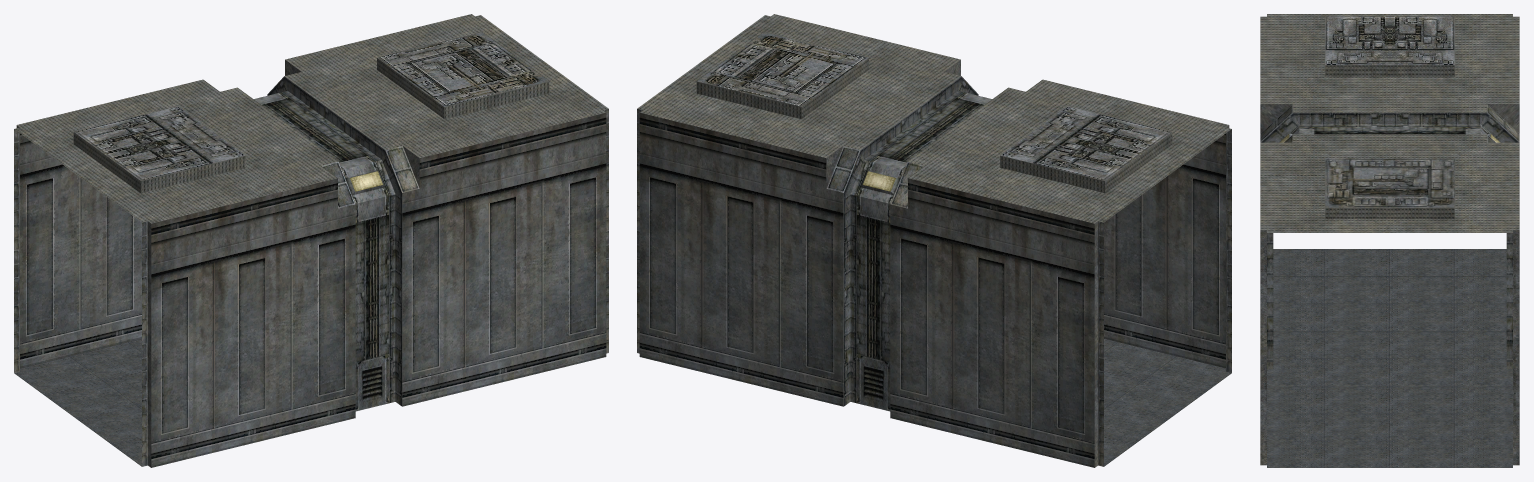
The model's file is poi_all_impl_bunker_abandoned_s01_r19_connector1_mesh.fbx.
The picture shows the model from 3 angles, left to right: view 1: azimuth 30°, elevation 25°; view 2: azimuth 150°, elevation 25°; view 3: azimuth 270°, elevation 25°; orthographic projection. The views are drawn at different scales.
Parts seen in each view (by area): view 1: mesh_node; view 2: mesh_node; view 3: mesh_node.
Boxes of the visible parts, x1,y1,x2,y2 form: mesh_node: [14, 14, 608, 467]; mesh_node: [637, 14, 1231, 467]; mesh_node: [1260, 14, 1519, 467].
Size of the model in its own units: 8 by 4.2 by 4.
